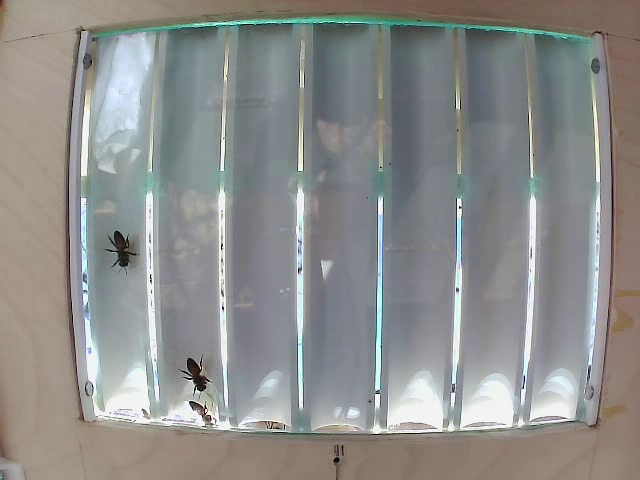bee: (101, 221, 141, 280), (170, 342, 215, 390)
